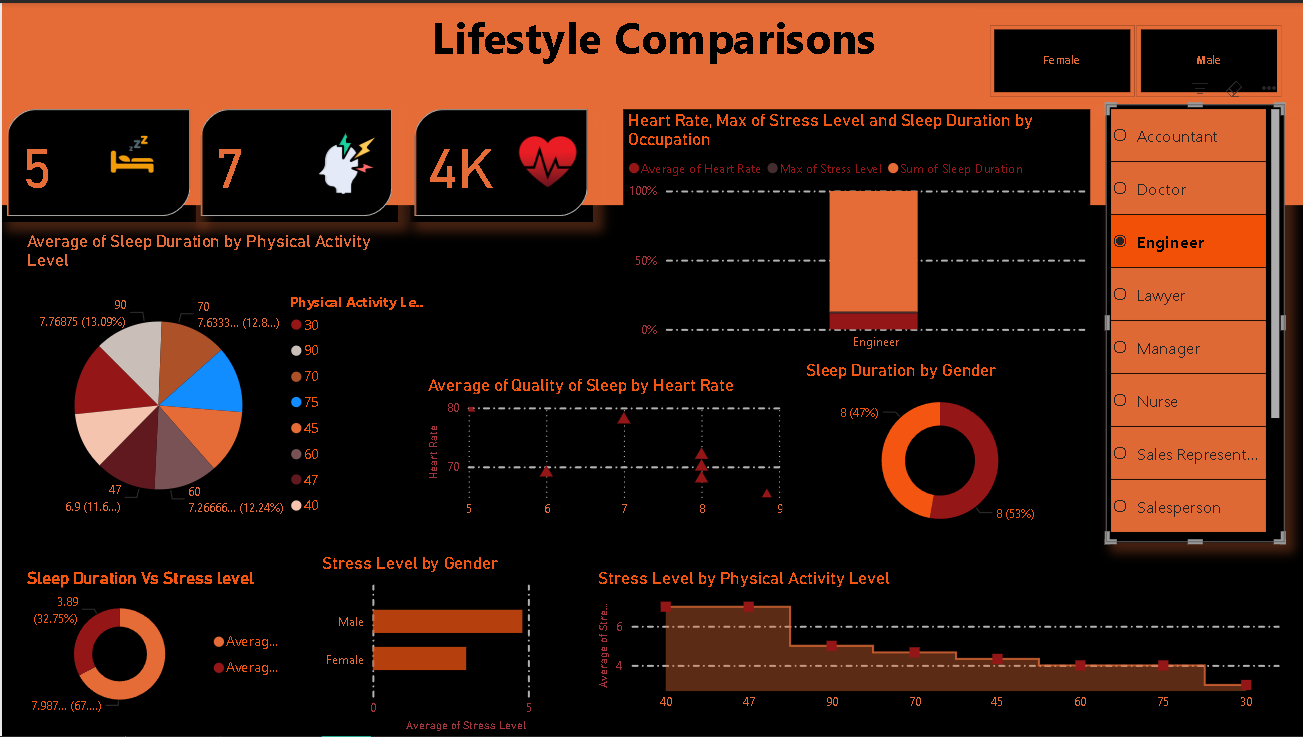

The page's visual inventory and layout, read from the dashboard file:
{"tool":"powerbi","page":{"name":"Page 2`","canvas":[1280,720],"ordinal":1},"visuals":[{"type":"textbox","box":[0,0,1280,198.3],"z":0},{"type":"pieChart","fields":{"Category":["Sleep_health_and_lifestyle_dataset.Physical Activity Level"],"Y":["Avg(Sleep_health_and_lifestyle_dataset.Sleep Duration)"]},"box":[20,223.3,393.3,306.7],"z":1000},{"type":"slicer","fields":{"Values":["Sleep_health_and_lifestyle_dataset.Gender"]},"box":[943.8,15,336.2,83.8],"z":2000},{"type":"donutChart","title":"Sleep Duration Vs Stress level","fields":{"Y":["Avg(Sleep_health_and_lifestyle_dataset.Sleep Duration)","Avg(Sleep_health_and_lifestyle_dataset.Stress Level)"]},"box":[20,555,270,150],"z":3000},{"type":"scatterChart","fields":{"Y":["Sleep_health_and_lifestyle_dataset.Heart Rate"],"X":["Sleep_health_and_lifestyle_dataset.Quality of Sleep"]},"box":[413.8,365,357.5,150],"z":4000},{"type":"lineChart","title":"Stress Level by Physical Activity Level","fields":{"Category":["Sleep_health_and_lifestyle_dataset.Physical Activity Level"],"Y":["Avg(Sleep_health_and_lifestyle_dataset.Stress Level)"]},"box":[580,555,678.8,150],"z":5000},{"type":"cardVisual","fields":{"Data":["Min(Sleep_health_and_lifestyle_dataset.Quality of Sleep)"]},"box":[0,100,190,115],"z":6000},{"type":"cardVisual","fields":{"Data":["Max(Sleep_health_and_lifestyle_dataset.Stress Level)"]},"box":[190,100,198.3,115],"z":7000},{"type":"cardVisual","fields":{"Data":["Sum(Sleep_health_and_lifestyle_dataset.Heart Rate)"]},"box":[400,100,180,115],"z":8000},{"type":"hundredPercentStackedColumnChart","title":"Heart Rate, Max of Stress Level and Sleep Duration by Occupation","fields":{"Y":["Avg(Sleep_health_and_lifestyle_dataset.Heart Rate)","Max(Sleep_health_and_lifestyle_dataset.Stress Level)","Sum(Sleep_health_and_lifestyle_dataset.Sleep Duration)"],"Category":["Sleep_health_and_lifestyle_dataset.Occupation"]},"box":[610,103.8,458.8,246.2],"z":9000},{"type":"listSlicer","title":"Age, BMI Category and Sleep Disorder by Occupation","fields":{"Values":["Sleep_health_and_lifestyle_dataset.Occupation"]},"box":[1083.8,100,175,430],"z":10000},{"type":"donutChart","title":"Sleep Duration by Gender","fields":{"Y":["Avg(Sleep_health_and_lifestyle_dataset.Sleep Duration)"],"Category":["Sleep_health_and_lifestyle_dataset.Gender"]},"box":[783.8,350,273.8,180],"z":11000},{"type":"barChart","title":"Stress Level by Gender","fields":{"Y":["Avg(Sleep_health_and_lifestyle_dataset.Stress Level)"],"Category":["Sleep_health_and_lifestyle_dataset.Gender"]},"box":[308.8,540,246.2,180],"z":12000}]}

Visuals, with their boxes in screenshot pixels (x1, y1, x2, y2), scaled from the page's 1280x720 canvas onto the 1303x737 screenshot:
textbox: [0,0,1302,203]
pieChart - Sleep_health_and_lifestyle_dataset.Physical Activity Level x Avg(Sleep_health_and_lifestyle_dataset.Sleep Duration): [20,229,421,543]
slicer - Sleep_health_and_lifestyle_dataset.Gender: [961,15,1302,101]
"Sleep Duration Vs Stress level" donutChart: [20,568,295,722]
scatterChart - Sleep_health_and_lifestyle_dataset.Heart Rate x Sleep_health_and_lifestyle_dataset.Quality of Sleep: [421,374,785,527]
"Stress Level by Physical Activity Level" lineChart: [590,568,1281,722]
cardVisual - Min(Sleep_health_and_lifestyle_dataset.Quality of Sleep): [0,102,193,220]
cardVisual - Max(Sleep_health_and_lifestyle_dataset.Stress Level): [193,102,395,220]
cardVisual - Sum(Sleep_health_and_lifestyle_dataset.Heart Rate): [407,102,590,220]
"Heart Rate, Max of Stress Level and Sleep Duration by Occupation" hundredPercentStackedColumnChart: [621,106,1088,358]
"Age, BMI Category and Sleep Disorder by Occupation" listSlicer: [1103,102,1281,543]
"Sleep Duration by Gender" donutChart: [798,358,1077,543]
"Stress Level by Gender" barChart: [314,553,565,736]
